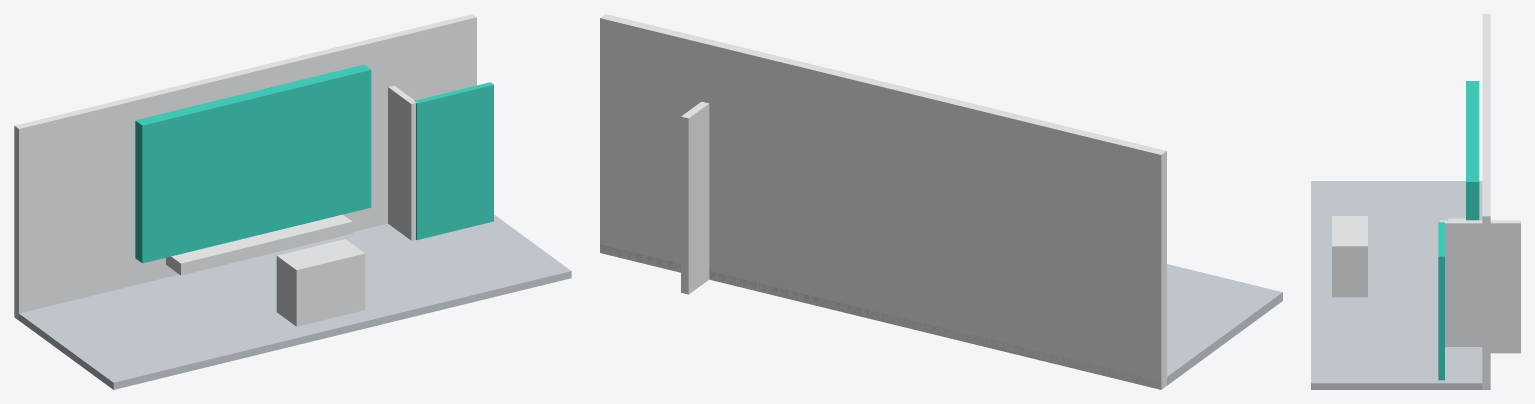
3 views of the same model, side by side, from view 1: azimuth 30°, elevation 25°; view 2: azimuth 150°, elevation 25°; view 3: azimuth 270°, elevation 25° (orthographic). The views are drawn at different scales.
Parts seen in each view (by area): view 1: Exhibition Booth Concept; view 2: Exhibition Booth Concept; view 3: Exhibition Booth Concept.
Boxes of the visible parts, x1,y1,x2,y2 form: Exhibition Booth Concept: [14, 14, 571, 389]; Exhibition Booth Concept: [600, 14, 1282, 389]; Exhibition Booth Concept: [1311, 14, 1520, 389].
Bounding box in the file's own units: 8 × 3.2 × 3.51.
